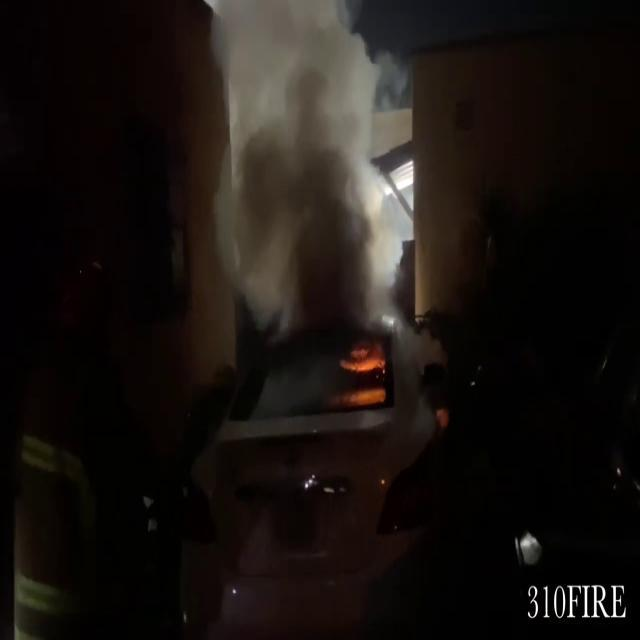Smoke: (185, 1, 409, 359)
